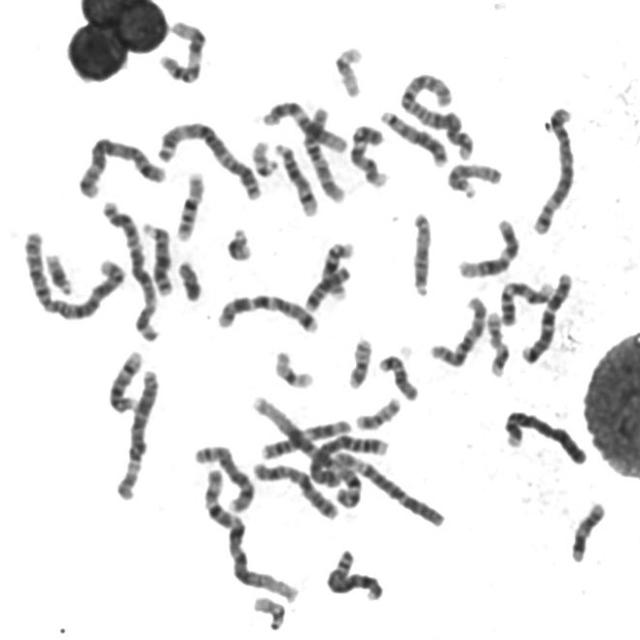A1: (196, 460, 302, 605), (250, 392, 366, 514)
A2: (18, 225, 126, 322), (395, 67, 476, 162)
A3: (150, 114, 264, 202), (96, 194, 162, 344)
B4: (498, 404, 589, 468), (302, 428, 391, 488)
B5: (526, 100, 578, 236), (72, 132, 168, 200)
C10: (423, 290, 490, 370), (299, 101, 346, 204)
C11: (254, 412, 352, 462), (153, 14, 208, 85)
C12: (257, 94, 348, 154), (452, 212, 522, 280)
C6: (326, 444, 447, 529), (109, 363, 161, 502)
C7: (515, 266, 575, 366), (211, 288, 321, 334)
C8: (188, 438, 256, 514), (320, 544, 385, 603)
C9: (344, 119, 390, 189), (495, 274, 556, 326)
D13: (374, 104, 450, 168), (137, 215, 175, 298)
D14: (268, 136, 320, 217), (103, 346, 145, 414)
D15: (441, 156, 504, 200), (406, 205, 434, 298)
E16: (169, 165, 207, 242), (317, 236, 355, 302)
E17: (564, 495, 608, 564), (482, 306, 512, 378)
E18: (300, 260, 352, 312), (373, 348, 420, 402)
F19: (328, 40, 366, 99), (269, 344, 316, 390)
F20: (350, 392, 403, 431), (342, 332, 374, 391)
G21: (40, 247, 76, 296), (220, 220, 255, 262)
G22: (247, 591, 287, 632), (246, 134, 281, 179)
X: (247, 455, 340, 521)
Y: (172, 254, 204, 302)
